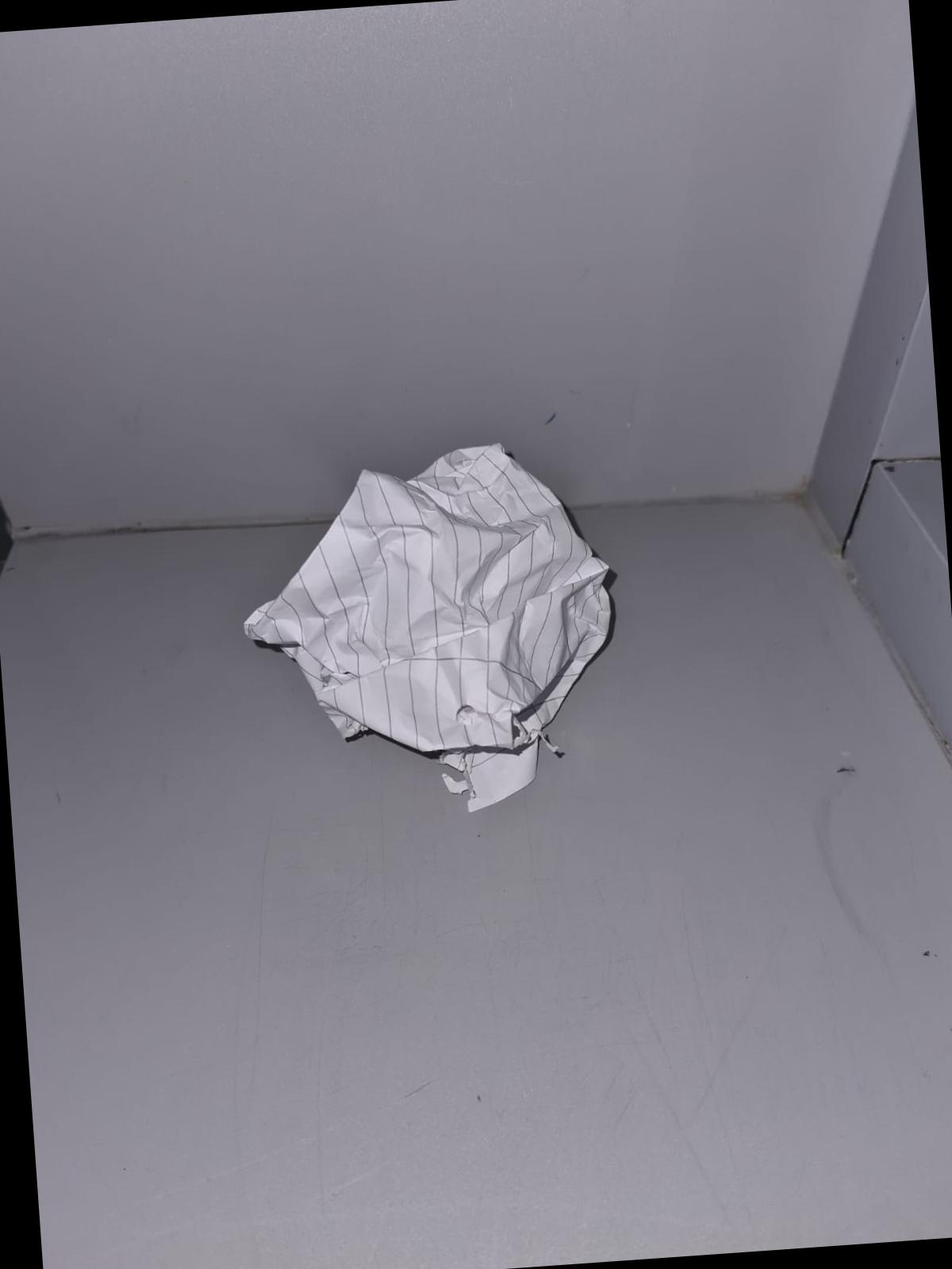Kertas: (232, 435, 626, 814)
